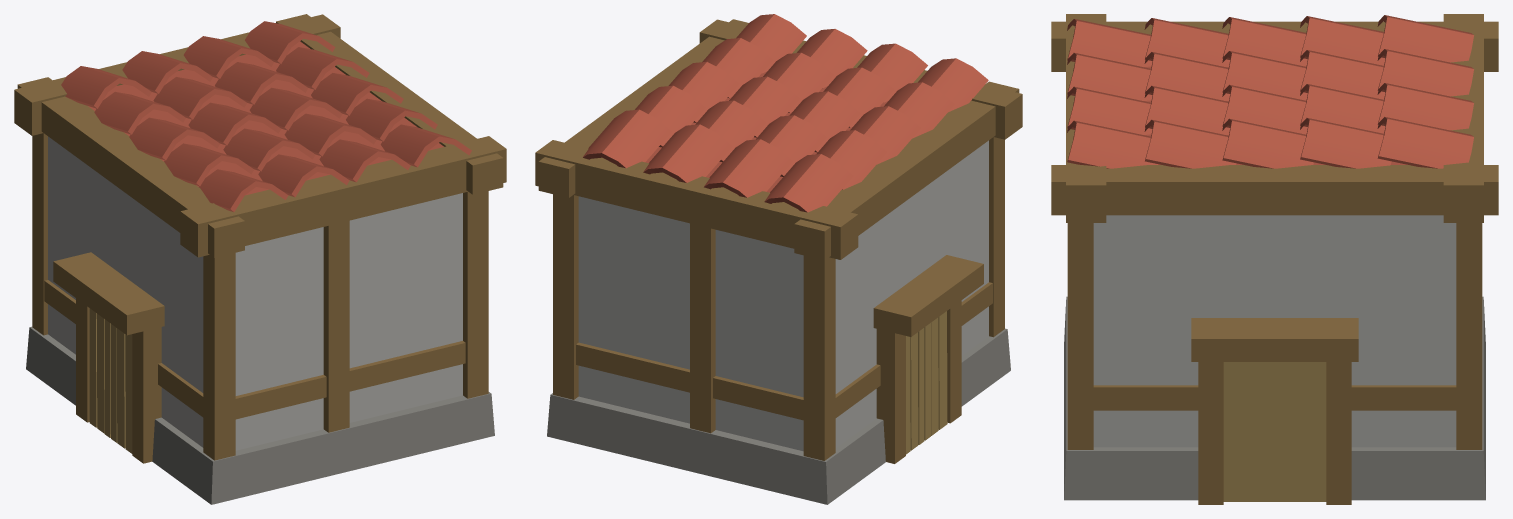
Rendered from quaternius-real-time-strategy-houses-second-age-3-level-1.glb.
The picture shows the model from 3 angles, left to right: view 1: azimuth 30°, elevation 25°; view 2: azimuth 150°, elevation 25°; view 3: azimuth 270°, elevation 25°; orthographic projection. The views are drawn at different scales.
Parts seen in each view (by area): view 1: Houses_SecondAge_3_Level1; view 2: Houses_SecondAge_3_Level1; view 3: Houses_SecondAge_3_Level1.
Part boxes in pixels (box(x1,y1,x2,y2)): Houses_SecondAge_3_Level1: box(14, 14, 506, 504); Houses_SecondAge_3_Level1: box(535, 14, 1022, 504); Houses_SecondAge_3_Level1: box(1051, 14, 1498, 504).
Size of the model in its own units: 0.6765 by 0.5909 by 0.6765.
1 material, 1 textured.
